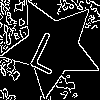L: (27, 22, 72, 76)
